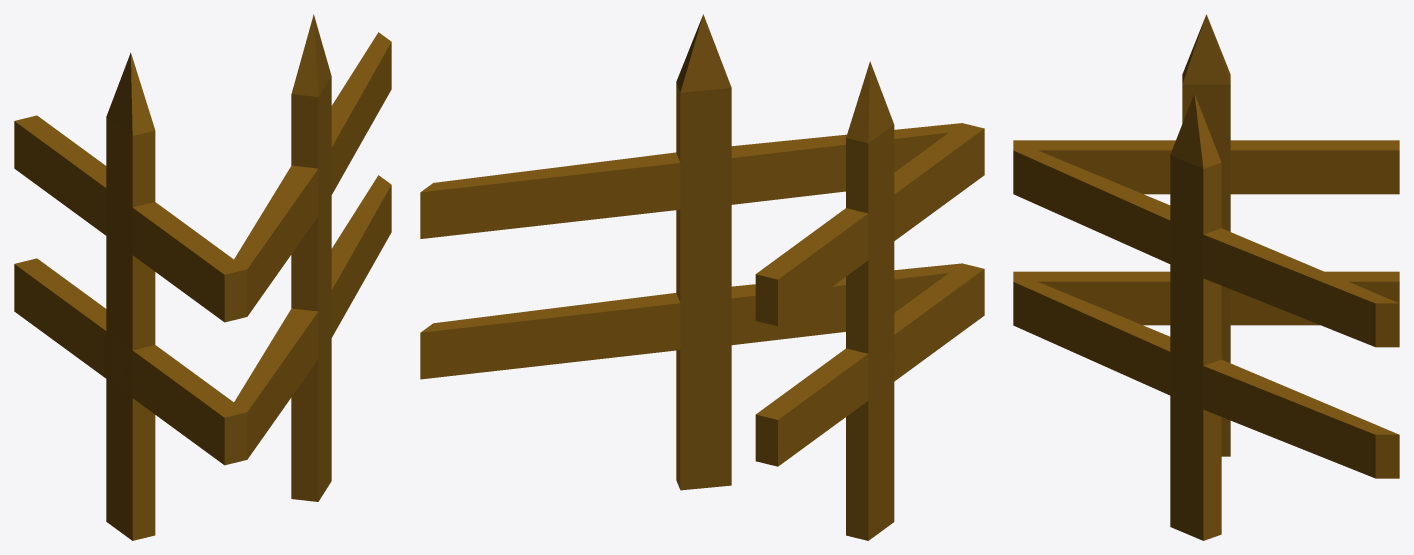
The picture shows the model from 3 angles, left to right: view 1: azimuth 30°, elevation 25°; view 2: azimuth 150°, elevation 25°; view 3: azimuth 270°, elevation 25°; orthographic projection. The views are drawn at different scales.
Size of the model in its own units: 128 by 160 by 128.
1 material, 1 textured.
